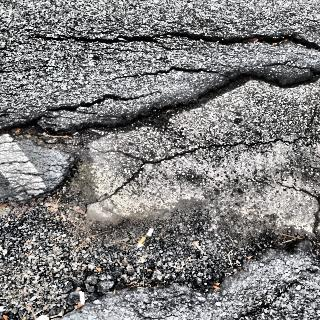crack: (34, 23, 319, 60)
